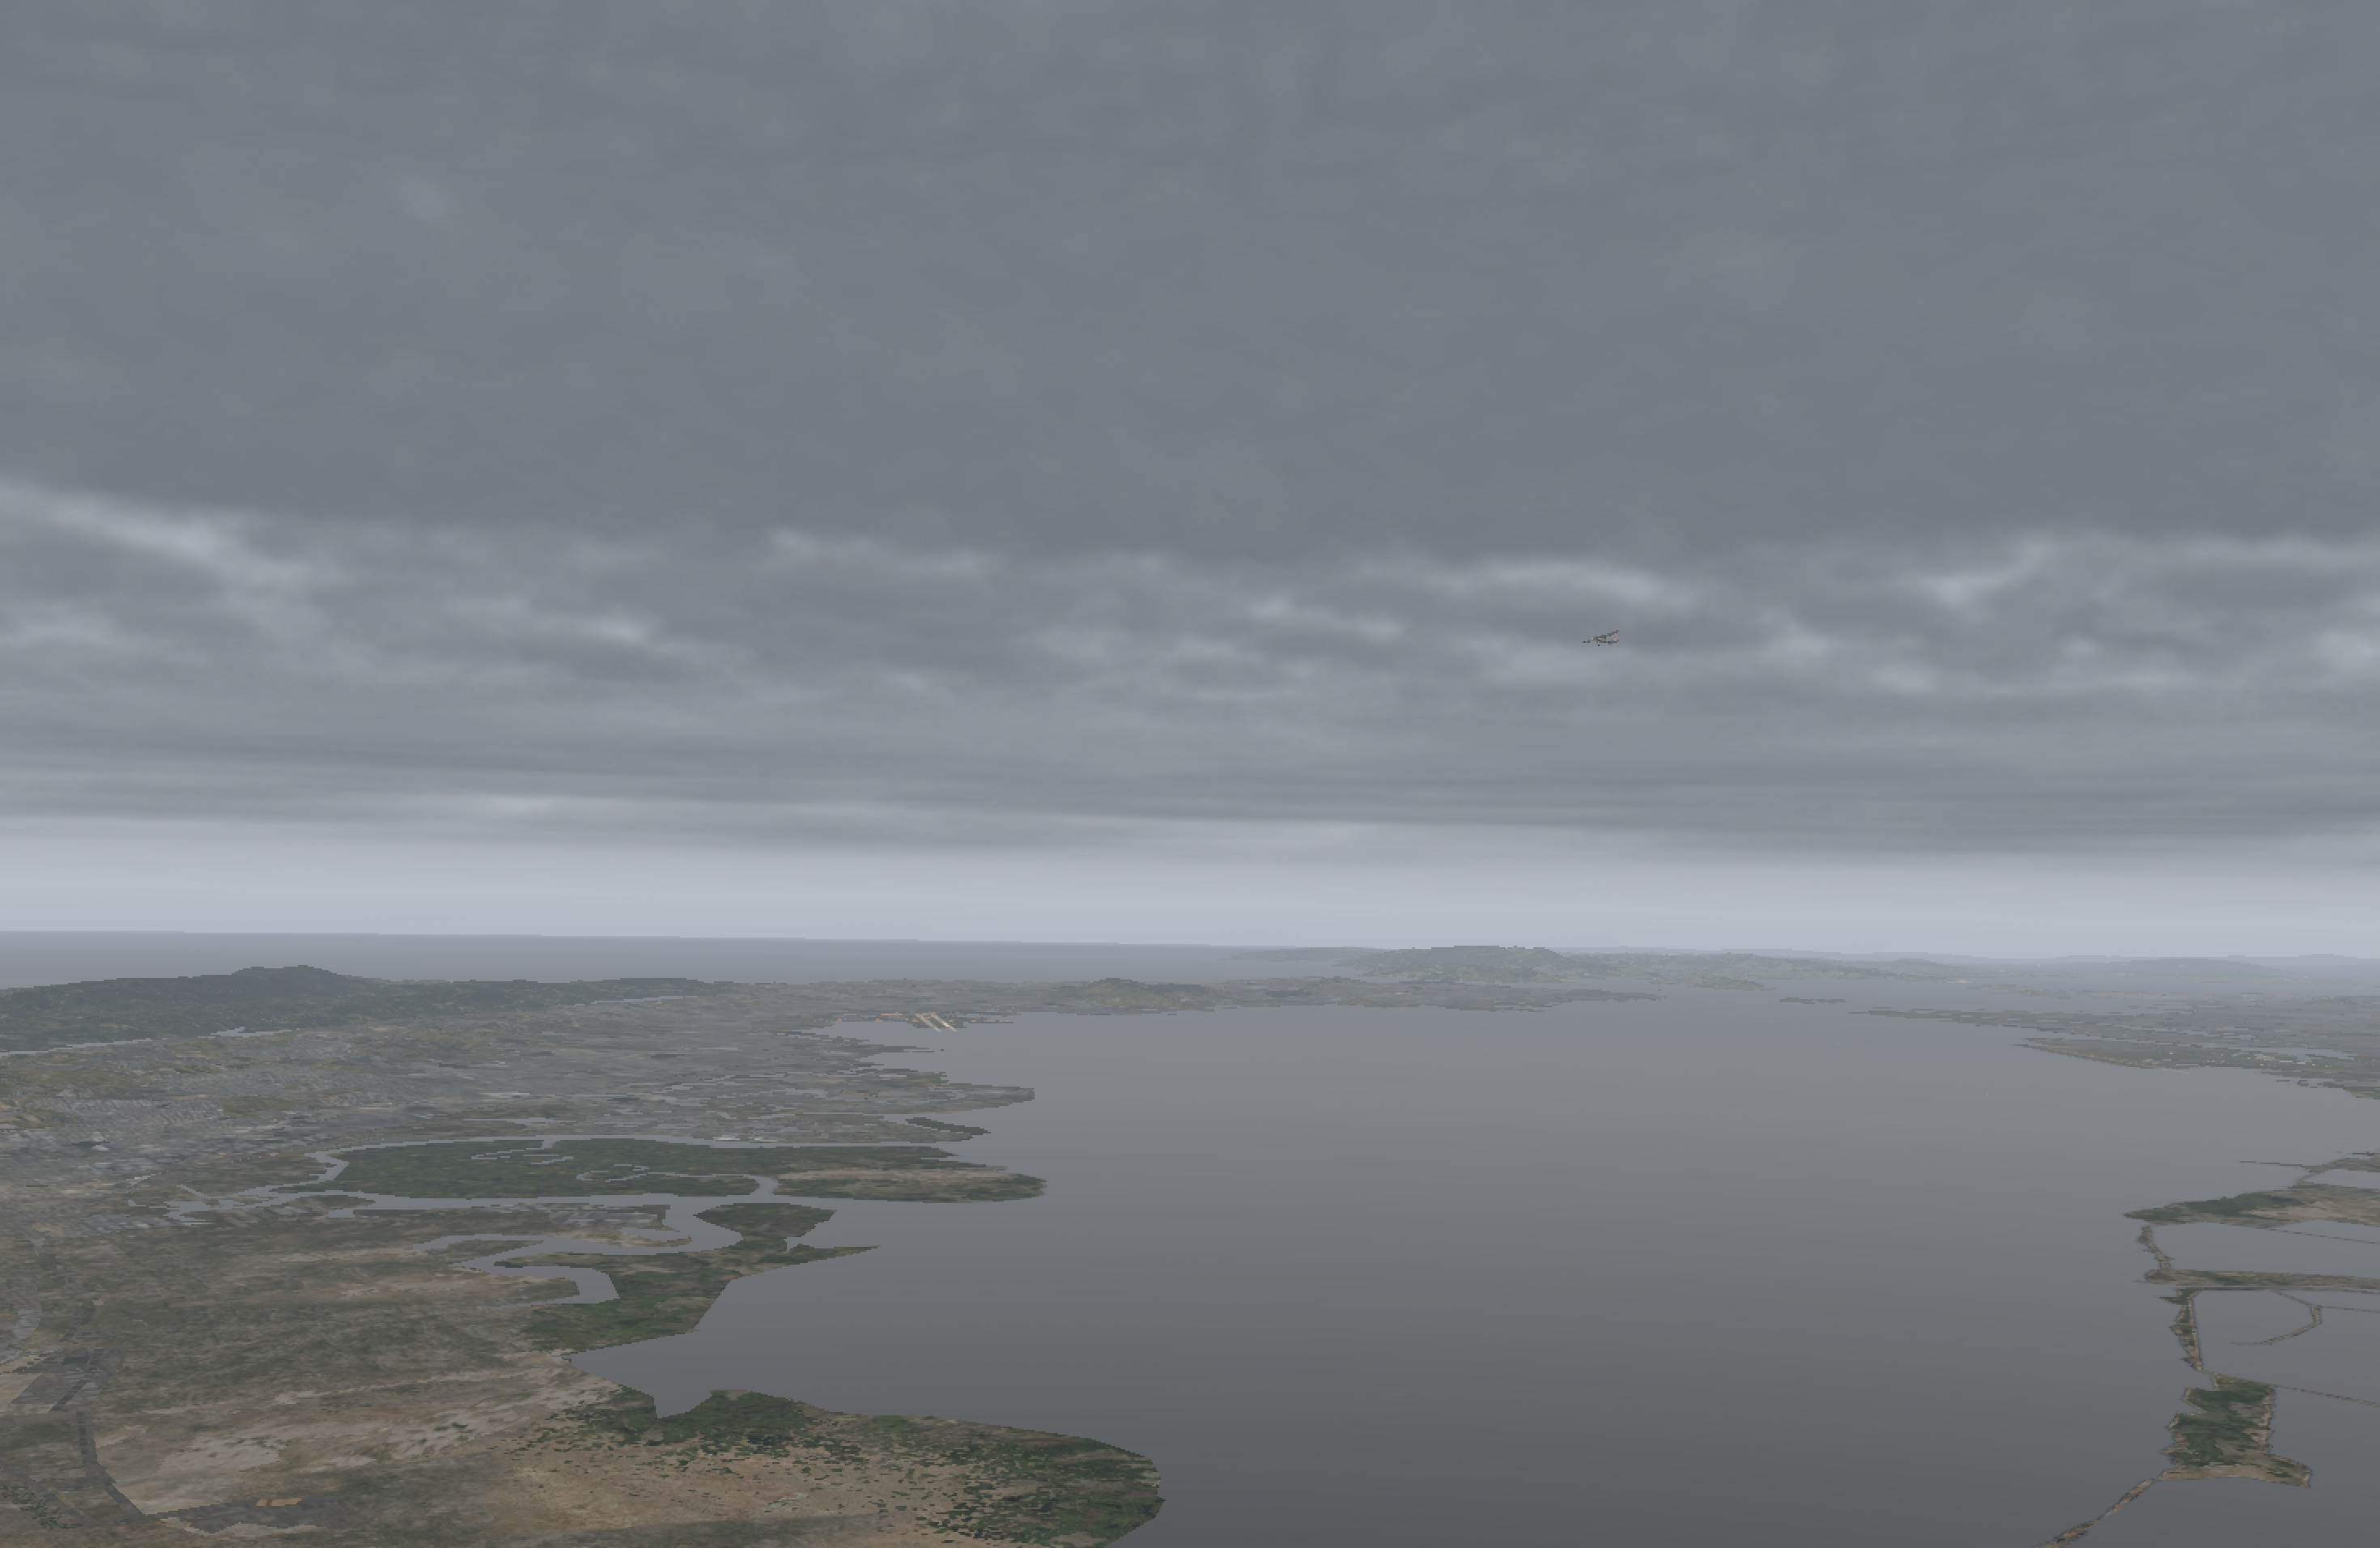aircraft: (1586, 633, 1617, 646)
